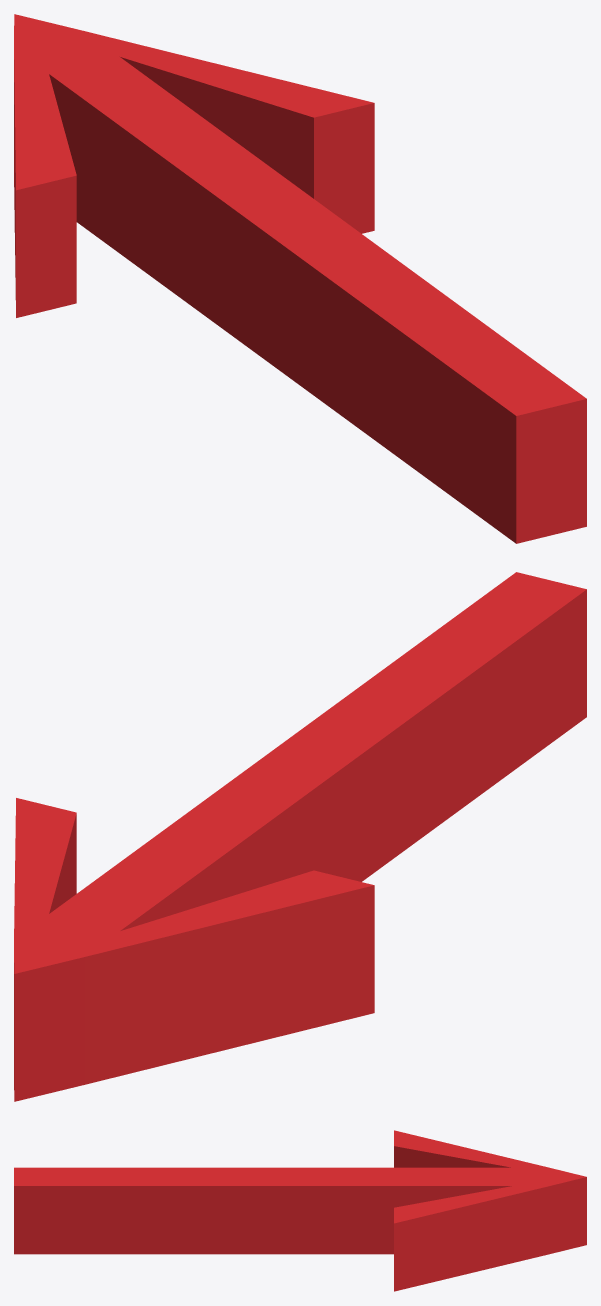
File: strzałka (1).fbx
The picture shows the model from 3 angles, top to bottom: view 1: azimuth 30°, elevation 25°; view 2: azimuth 150°, elevation 25°; view 3: azimuth 270°, elevation 25°; orthographic projection. The views are drawn at different scales.
Visible parts, largest first — view 1: Strzałka; view 2: Strzałka; view 3: Strzałka.
Part boxes in pixels (x1,y1,x2,y2): Strzałka: [14, 14, 586, 543]; Strzałka: [14, 572, 586, 1101]; Strzałka: [14, 1130, 586, 1291].
Bounding box in the file's own units: 17.72 × 6.04 × 46.
